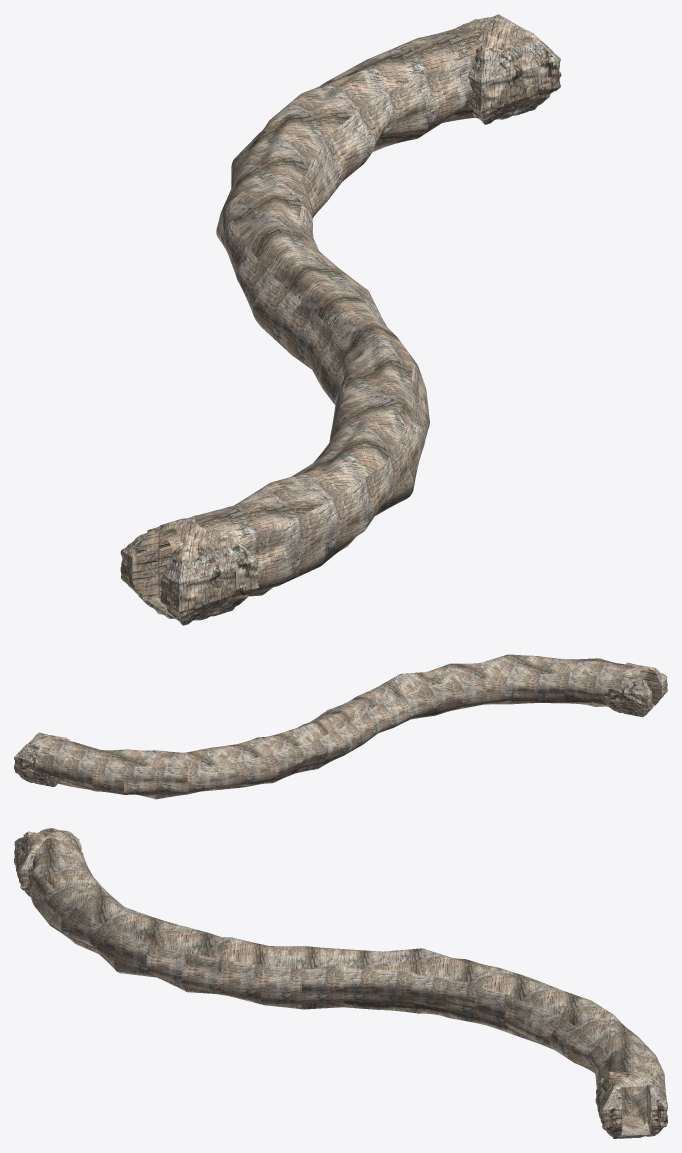
File: Tunnel.fbx
The picture shows the model from 3 angles, top to bottom: view 1: azimuth 30°, elevation 25°; view 2: azimuth 150°, elevation 25°; view 3: azimuth 270°, elevation 25°; orthographic projection. The views are drawn at different scales.
Visible parts, largest first — view 1: Torus.002, rock.007, rock.005; view 2: Torus.002, rock.007, rock.005; view 3: Torus.002, rock.005, rock.007.
Boxes of the visible parts, bbox=[...] form: Torus.002: bbox=[147, 19, 485, 618]; rock.007: bbox=[120, 515, 258, 625]; rock.005: bbox=[451, 14, 561, 124]; Torus.002: bbox=[34, 654, 653, 799]; rock.007: bbox=[602, 662, 667, 717]; rock.005: bbox=[14, 732, 70, 786]; Torus.002: bbox=[18, 828, 666, 1124]; rock.005: bbox=[595, 1071, 667, 1138]; rock.007: bbox=[14, 830, 83, 896].
Size of the model in its own units: 43.65 by 4.87 by 44.61.
